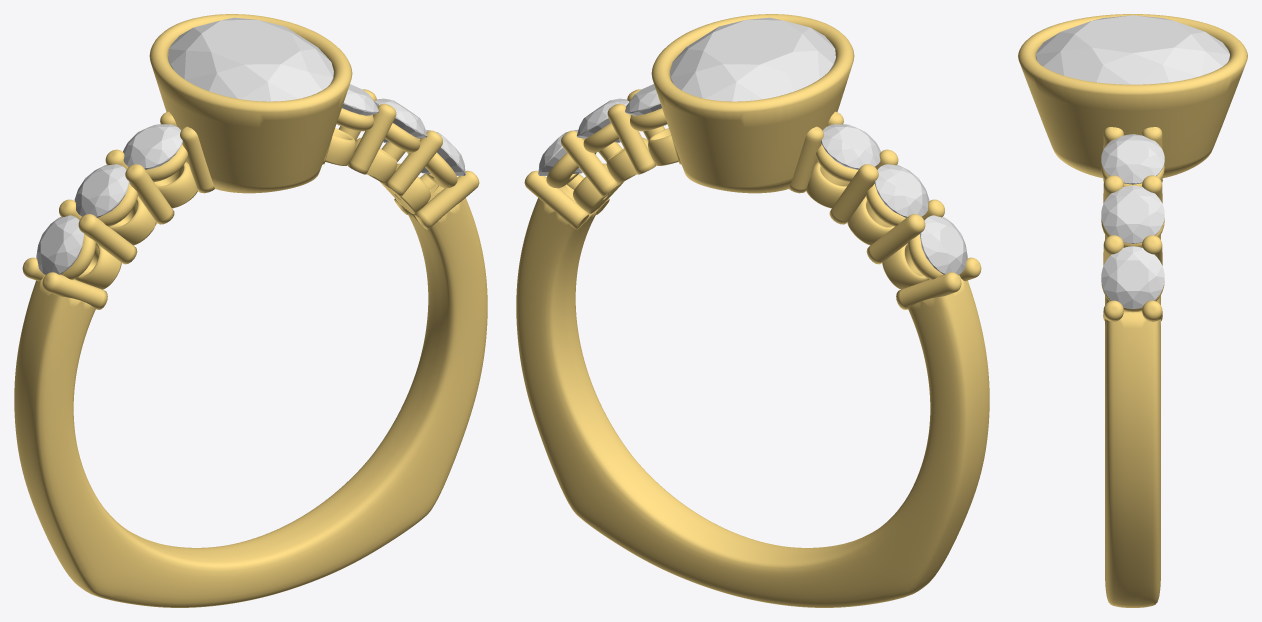
The model's file is diamond-oval-yellowgold-bezelset-europeanshank-7stone.glb.
3 renders of one model, left to right at view 1: azimuth 30°, elevation 25°; view 2: azimuth 150°, elevation 25°; view 3: azimuth 270°, elevation 25°, orthographic. The views are drawn at different scales.
Visible parts, largest first — view 1: metal, stone.002, side.018, side.019, side.020, side.022, side.023, side.021; view 2: metal, stone.002, side.018, side.019, side.020, side.022, side.023, side.021; view 3: metal, stone.002, side.021, side.022, side.023.
Part boxes in pixels (x1,y1,x2,y2): metal: [14, 14, 487, 607]; stone.002: [168, 17, 333, 101]; side.018: [36, 215, 83, 274]; side.019: [74, 164, 129, 217]; side.020: [123, 124, 182, 169]; side.022: [374, 98, 427, 142]; side.023: [338, 84, 378, 125]; side.021: [420, 130, 465, 175]; metal: [516, 14, 989, 607]; stone.002: [670, 17, 835, 101]; side.018: [920, 215, 967, 274]; side.019: [874, 164, 929, 217]; side.020: [821, 124, 880, 169]; side.022: [576, 98, 629, 142]; side.023: [625, 84, 665, 125]; side.021: [538, 130, 583, 175]; metal: [1018, 14, 1247, 607]; stone.002: [1036, 15, 1229, 84]; side.021: [1101, 246, 1164, 308]; side.022: [1101, 185, 1164, 243]; side.023: [1101, 134, 1164, 184].
Bounding box in the file's own units: 20.1 × 23.2 × 9.04.
